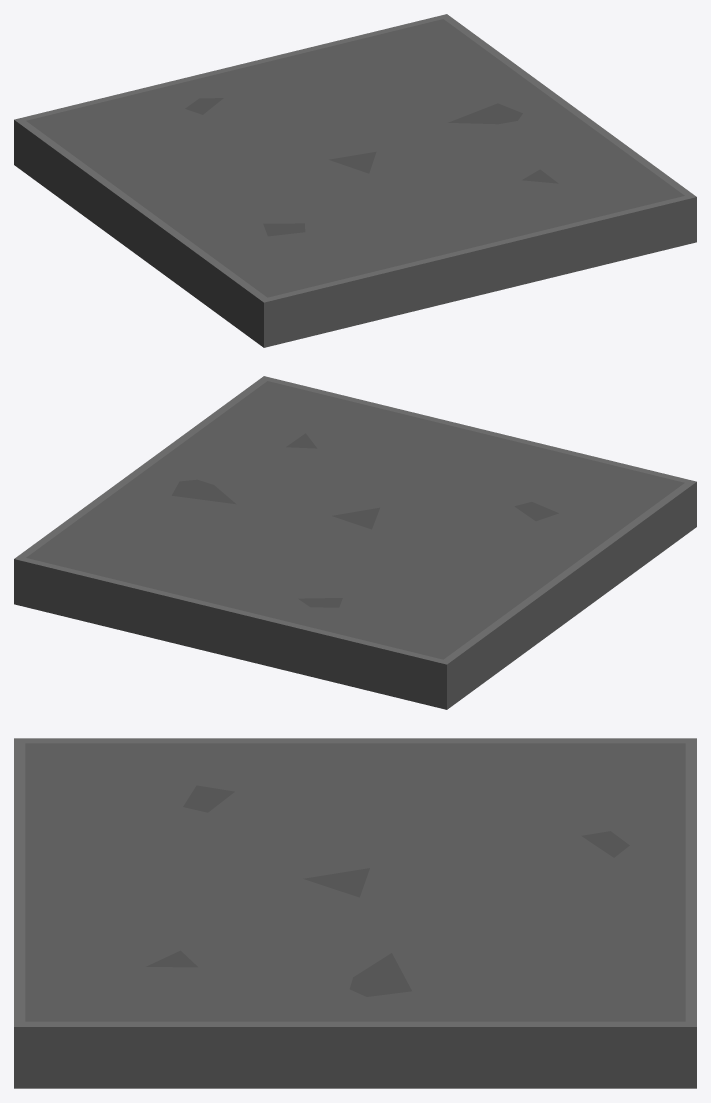
The model's file is ConcrateSlabs_B_2_2.fbx.
3 views of the same model, one above another, from view 1: azimuth 30°, elevation 25°; view 2: azimuth 150°, elevation 25°; view 3: azimuth 270°, elevation 25° (orthographic). The views are drawn at different scales.
Visible parts, largest first — view 1: ConcrateSlabs_B_2_2; view 2: ConcrateSlabs_B_2_2; view 3: ConcrateSlabs_B_2_2.
Boxes of the visible parts, <box> form: ConcrateSlabs_B_2_2: <box>14,14,696,347</box>; ConcrateSlabs_B_2_2: <box>14,376,696,709</box>; ConcrateSlabs_B_2_2: <box>14,738,696,1088</box>.
Size of the model in its own units: 400 by 40 by 400.
